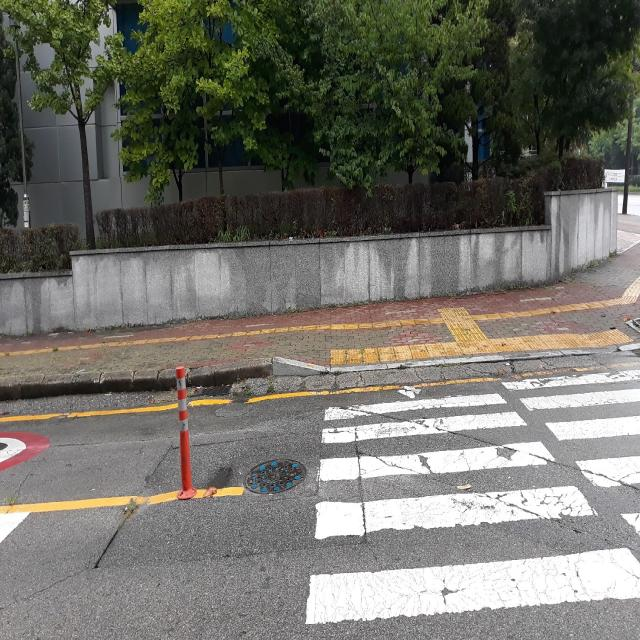횡단보도: (306, 360, 640, 621)
